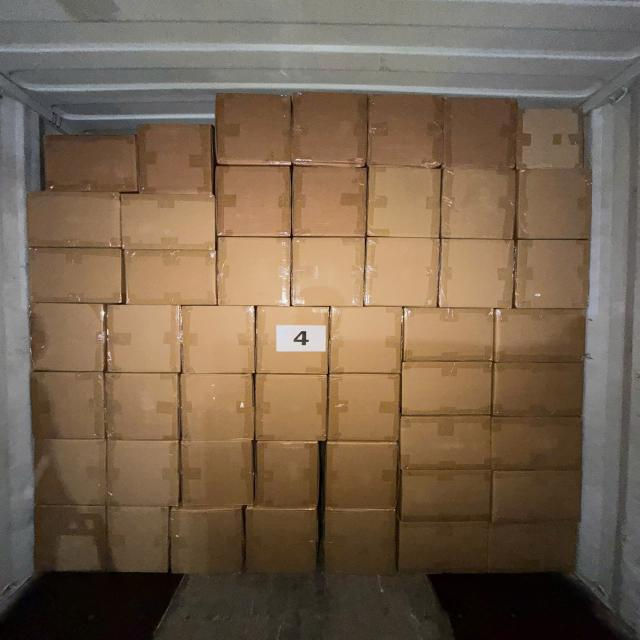Carton: (294, 89, 370, 168), (218, 90, 294, 168), (369, 94, 447, 169), (41, 132, 138, 192), (442, 170, 520, 244), (368, 168, 444, 243), (140, 119, 216, 194), (515, 238, 592, 312), (217, 168, 294, 242), (28, 247, 124, 306), (120, 192, 217, 250), (28, 190, 125, 248), (30, 302, 107, 375), (516, 168, 593, 241), (290, 166, 365, 240), (214, 237, 290, 310), (440, 238, 516, 311), (169, 507, 245, 580), (126, 249, 220, 308), (32, 502, 109, 574), (180, 305, 256, 377), (34, 436, 110, 508), (399, 357, 493, 415), (396, 521, 490, 579), (290, 237, 364, 310), (493, 359, 587, 416), (364, 238, 438, 310), (245, 508, 319, 580), (322, 508, 396, 580), (446, 95, 518, 169), (328, 305, 404, 375), (107, 304, 183, 374), (104, 370, 180, 440), (31, 369, 107, 439), (399, 412, 492, 469), (326, 374, 400, 445), (324, 442, 398, 513), (182, 441, 256, 512), (179, 375, 255, 444), (256, 305, 330, 375), (255, 374, 329, 444), (107, 440, 182, 509), (493, 310, 587, 365), (490, 415, 582, 471), (493, 469, 585, 525), (398, 468, 492, 522), (489, 523, 581, 578), (405, 310, 497, 364), (256, 442, 322, 511), (517, 105, 586, 171), (106, 508, 170, 578)
